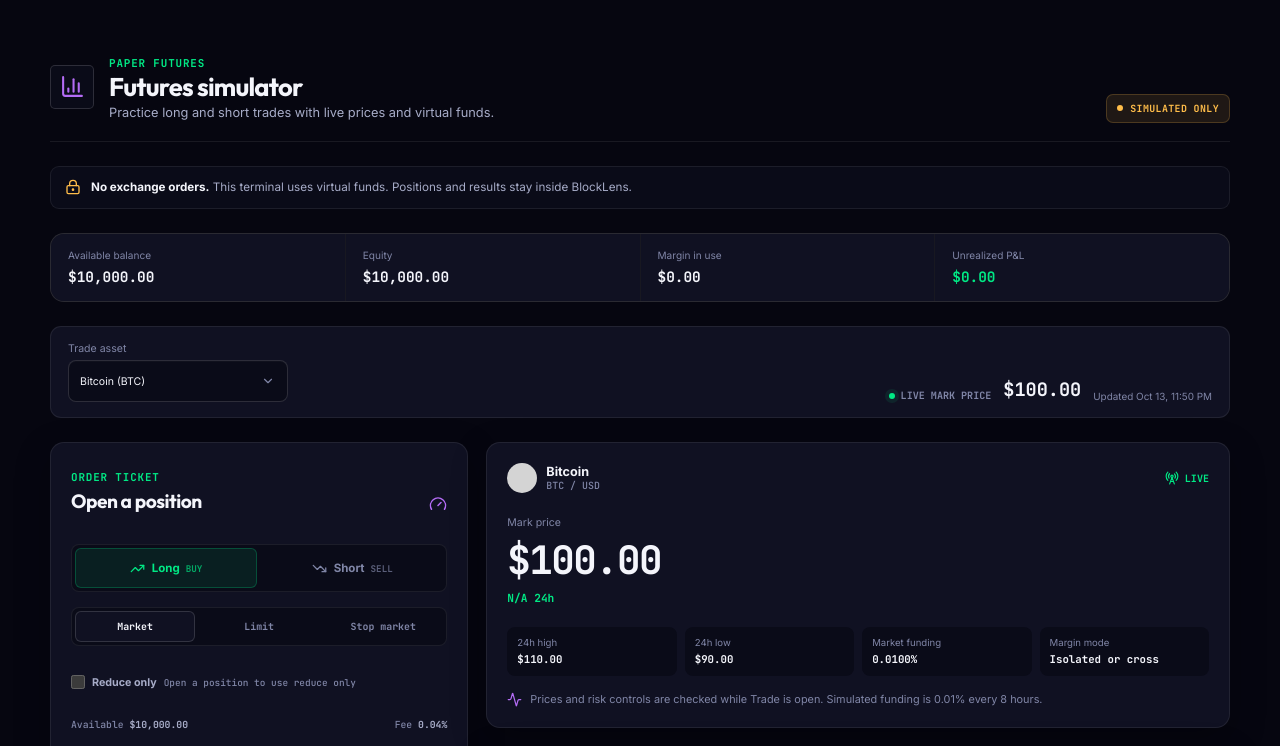
Trade screen regression flows › clears asset-specific protection and entry prices when changing assets
This screenshot has width=1280, height=746.
Click the button "Limit".
click(259, 627)  # box [199, 611, 319, 642]
(page scrolled)
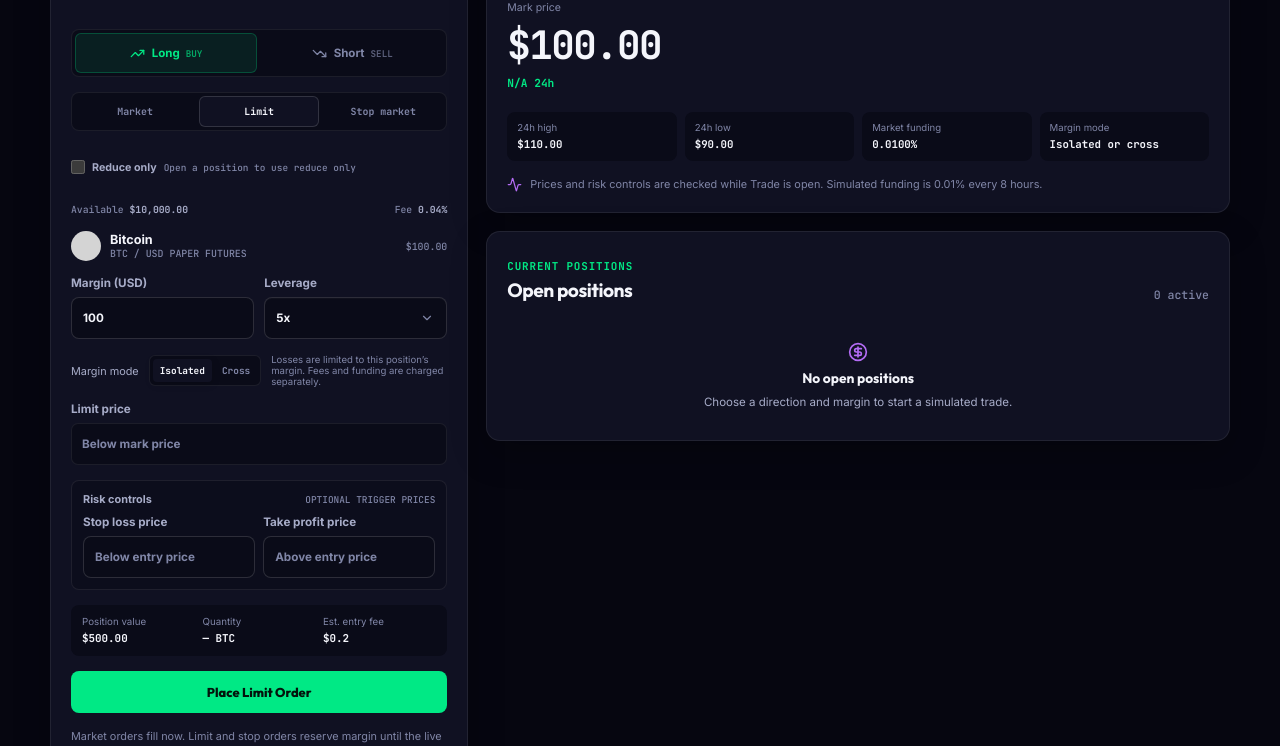
Type "80" into the number field labelled "Limit price".
click(259, 444); type("80")  # box [71, 423, 447, 465]
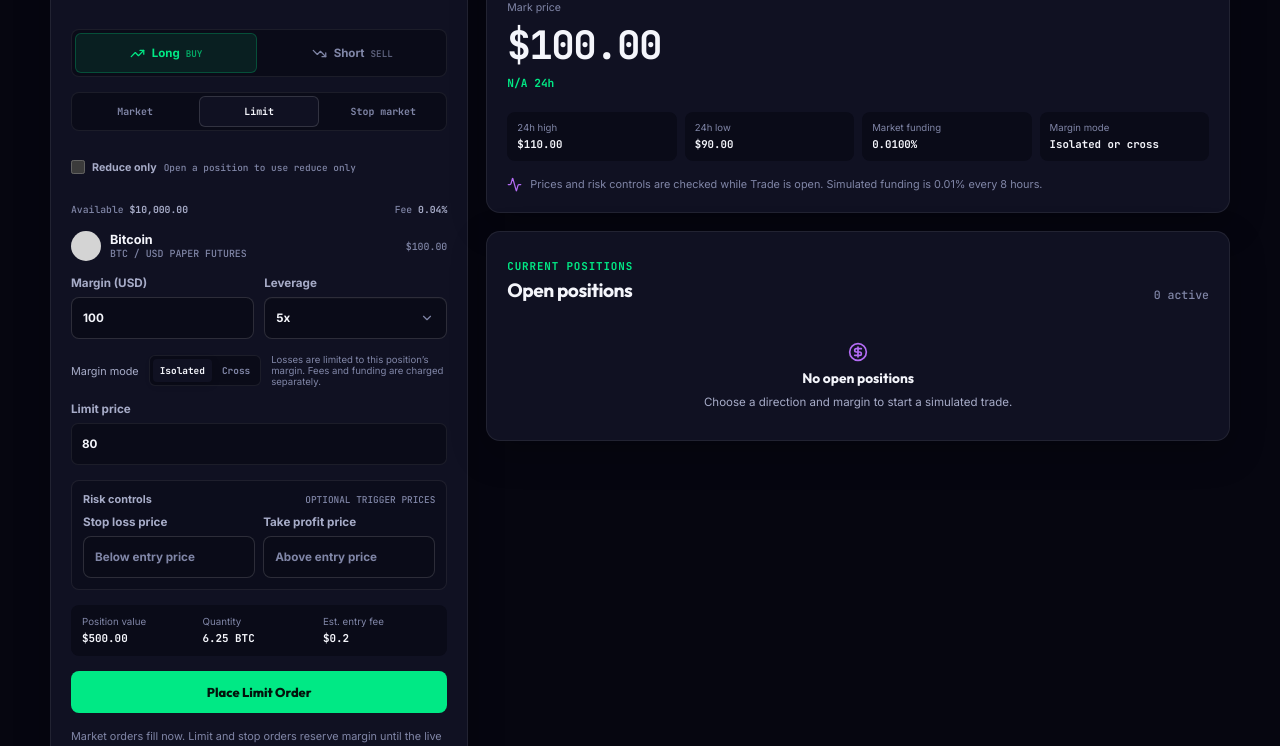
Type "70" into the number field labelled "Stop loss price".
click(169, 557); type("70")  # box [83, 536, 255, 578]
(page scrolled)
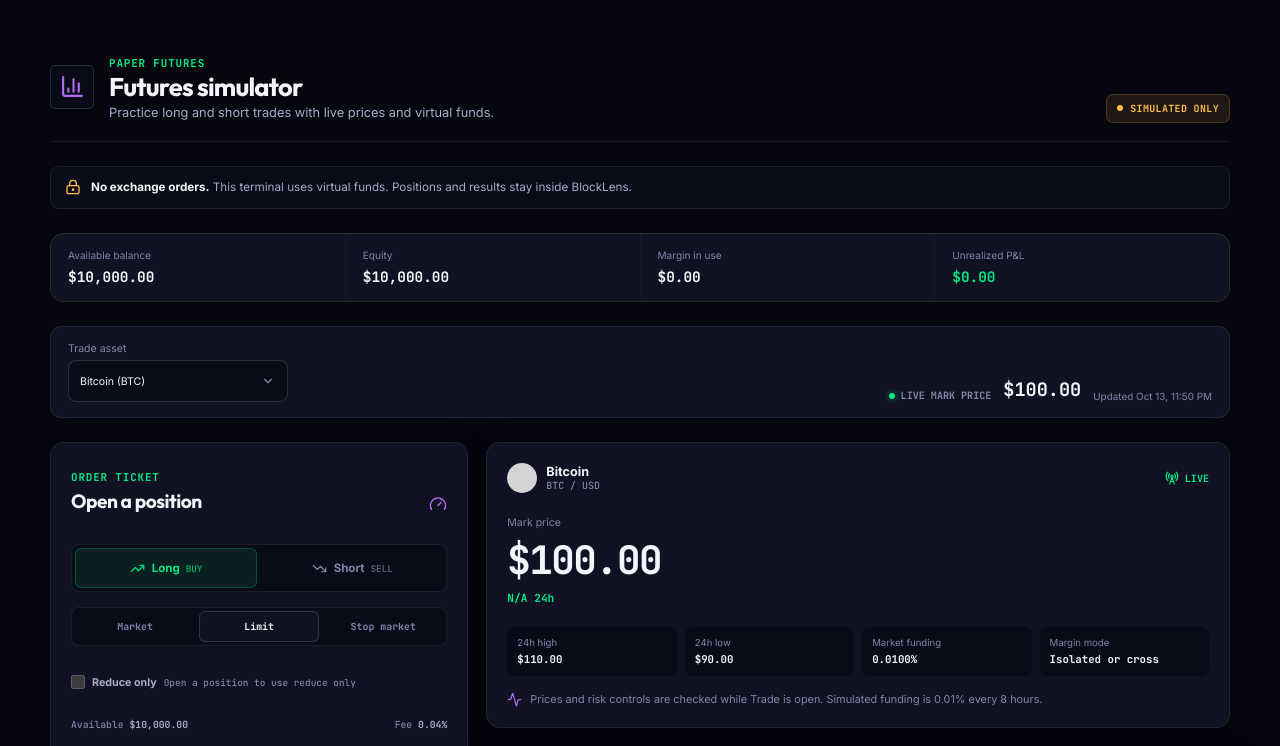
Select "Ethereum (ETH)" in the dropdown labelled "Trade asset" at (178, 381), box [68, 360, 288, 402]
(page scrolled)
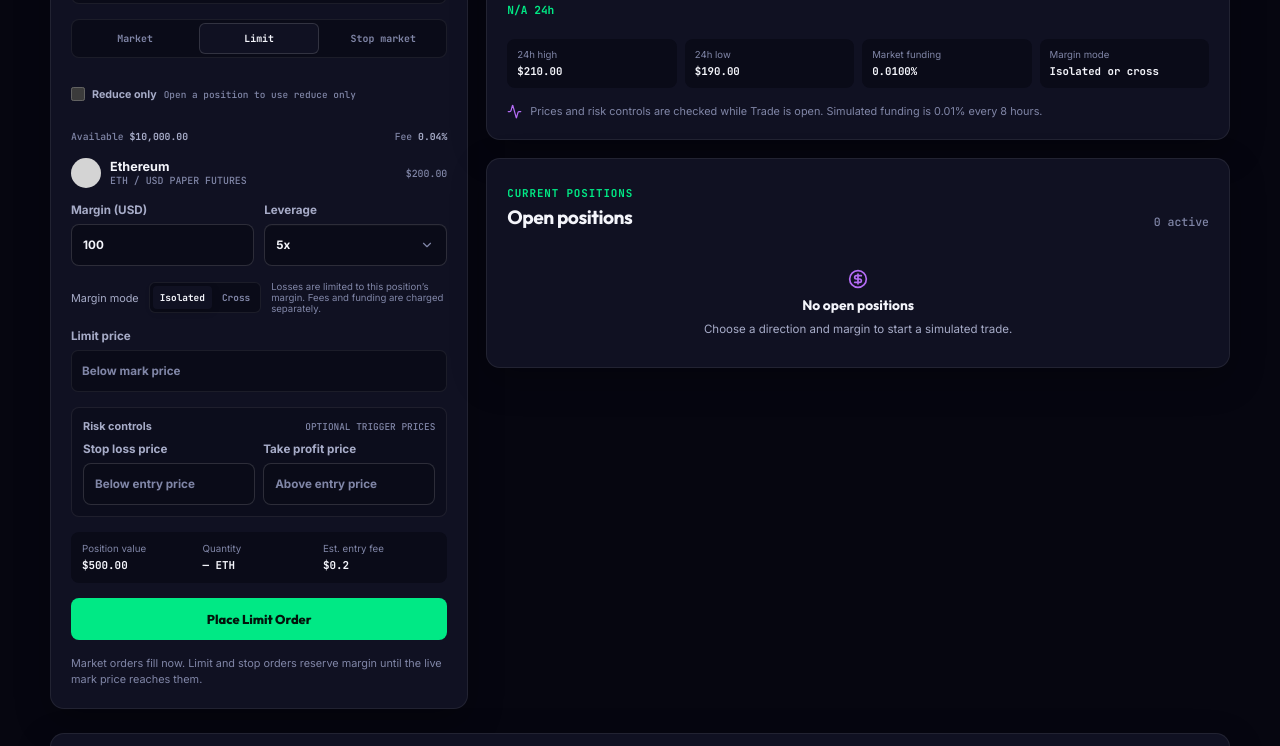
Expected: the number field labelled "Limit price" is not empty, [71, 350, 447, 392]
Expected: the number field labelled "Stop loss price" is not empty, [83, 463, 255, 505]
